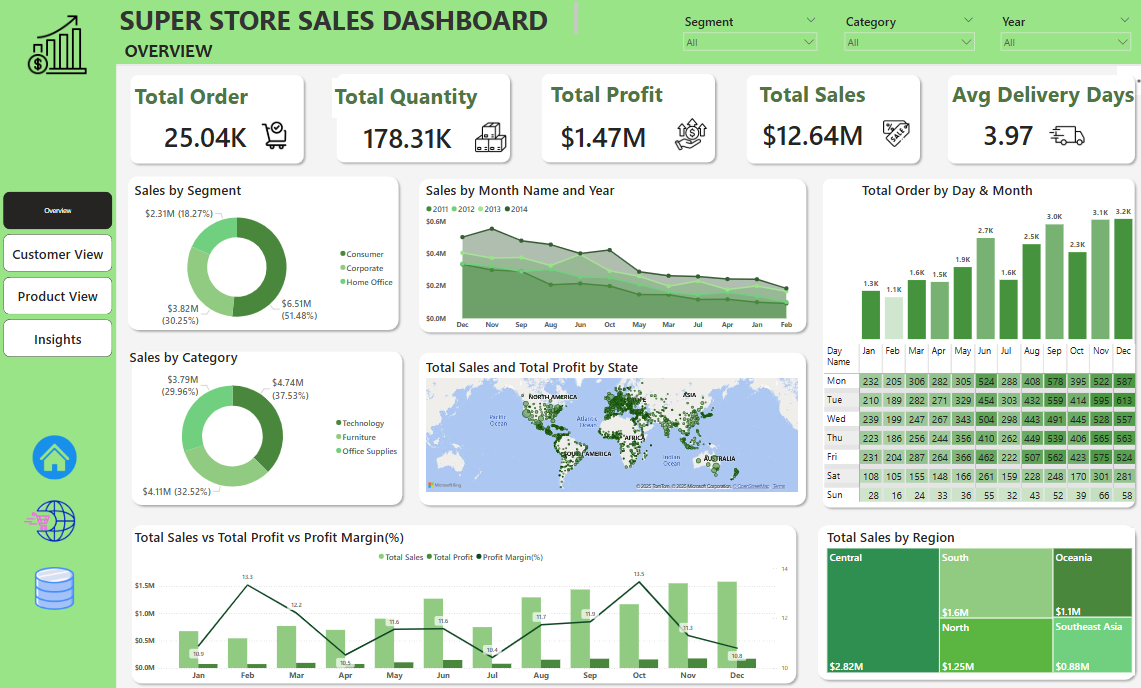

What the dashboard file says about the page in this screenshot:
{"tool":"powerbi","page":{"name":"Overview","canvas":[2300,1400],"ordinal":0},"visuals":[{"type":"shape","box":[0,0,2300,135],"z":0},{"type":"shape","box":[0,128.2,239.2,1272.3],"z":1000},{"type":"textbox","box":[240,2.5,927.5,77.5],"z":2000},{"type":"image","box":[0,30,240,127.5],"z":3000},{"type":"shape","box":[258.6,145.3,365,195],"z":4000},{"type":"shape","box":[669.3,142.8,365,195],"z":5000},{"type":"shape","box":[1080,142.8,365,195],"z":6000},{"type":"shape","box":[1490.7,143.8,365,195],"z":7000},{"type":"card","fields":{"Values":["superstore_sales_clean.Total Order"]},"box":[246.3,207.3,337.8,135.6],"z":8000},{"type":"textbox","box":[270.9,160.4,257.5,80],"z":9000},{"type":"image","box":[462.5,242.5,182.5,65],"z":10000},{"type":"card","fields":{"Values":["superstore_sales_clean.Total Quantity"]},"box":[681.1,212.5,281.1,128.2],"z":11000},{"type":"textbox","box":[670.7,160.7,317.5,80],"z":12000},{"type":"image","box":[905,242.5,165,72.5],"z":13000},{"type":"card","fields":{"Values":["superstore_sales_clean.Total Profit"]},"box":[1062.5,220.3,300,112.5],"z":14000},{"type":"textbox","box":[1102.5,157.8,260,77.5],"z":15000},{"type":"image","box":[1330,235,115,75],"z":16000},{"type":"card","fields":{"Values":["superstore_sales_clean.Total Sales"]},"box":[1492.5,217.8,277.5,110],"z":17000},{"type":"textbox","box":[1520,157.8,257.5,80],"z":18000},{"type":"image","box":[1742.5,240,112.5,62.5],"z":19000},{"type":"shape","box":[253.7,348.6,559.7,325.5],"z":20000},{"type":"donutChart","title":"Sales by Segment","fields":{"Y":["superstore_sales_clean.Total Sales"],"Category":["superstore_sales_clean.segment"]},"box":[271.1,366.2,535,311.5],"z":21000},{"type":"shape","box":[835,352.5,792.5,325],"z":22000},{"type":"areaChart","title":"Sales by Month Name and Year","fields":{"Category":["Date Table.Month Name"],"Y":["superstore_sales_clean.Total Sales"],"Series":["Date Table.Year"]},"box":[852.5,365,755,307.5],"z":23000},{"type":"shape","box":[1632.5,1045,652.5,327.5],"z":24000},{"type":"shape","box":[260,1045,1347.5,335],"z":25000},{"type":"lineClusteredColumnComboChart","title":"Total Sales vs Total Profit vs Profit Margin(%)","fields":{"Category":["Date Table.Month Name"],"Y":["superstore_sales_clean.Total Sales","superstore_sales_clean.Total Profit"],"Y2":["superstore_sales_clean.Profit Margin(%)"]},"box":[271.1,1060.5,1319.6,316.2],"z":26000},{"type":"treemap","title":"Total Sales by Region","fields":{"Values":["superstore_sales_clean.Total Sales"],"Group":["superstore_sales_clean.region"]},"box":[1654.9,1060.5,620.6,294.8],"z":27000},{"type":"slicer","fields":{"Values":["Date Table.Year"]},"box":[1997.5,25,280,85],"z":28000},{"type":"shape","box":[1643,351.9,642,675.3],"z":29000},{"type":"columnChart","title":"Total Order by Day & Month","fields":{"Y":["superstore_sales_clean.Total_Order_format"],"Category":["Date Table.Month Name"]},"box":[1723.9,366.2,551.6,323.4],"z":30000},{"type":"pivotTable","fields":{"Columns":["Date Table.Month Name"],"Rows":["Date Table.Day Name"],"Values":["superstore_sales_clean.Total_Order_format"]},"box":[1650.1,687.2,634.9,330.5],"z":31000},{"type":"shape","box":[259.7,696.8,559.7,325.5],"z":32000},{"type":"donutChart","title":"Sales by Category","fields":{"Y":["superstore_sales_clean.Total Sales"],"Category":["superstore_sales_clean.category"]},"box":[260,700,555,317.5],"z":33000},{"type":"shape","box":[834.6,699.1,791.8,323.4],"z":34000},{"type":"map","title":"Total Sales and Total Profit by State","fields":{"Category":["superstore_sales_clean.state"],"Size":["superstore_sales_clean.Total Sales"]},"box":[853.6,720.5,753.7,273.4],"z":35000},{"type":"slicer","fields":{"Values":["superstore_sales_clean.category"]},"box":[1685,25,280,85],"z":36000},{"type":"slicer","fields":{"Values":["superstore_sales_clean.segment"]},"box":[1362.5,25,287.5,85],"z":37000},{"type":"image","box":[67.1,1132.4,95,97.5],"z":38000},{"type":"image","box":[59.6,869.9,110,97.5],"z":39000},{"type":"image","box":[47.1,989.9,115,112.5],"z":40000},{"type":"textbox","box":[249.7,78.5,299.6,57.1],"z":41000},{"type":"pageNavigator","box":[11.9,387.6,218.8,332.9],"z":42000},{"type":"shape","box":[1892.7,145,392.3,195],"z":43000},{"type":"textbox","box":[1904.6,156.9,394.7,80.8],"z":44000},{"type":"card","fields":{"Values":["superstore_sales_clean.Avg Delivery Days"]},"box":[1905,220,235,102.5],"z":45000},{"type":"image","box":[2080,235,120,80],"z":46000}]}

Visuals, with their boxes in screenshot pixels (x1, y1, x2, y2), scaled from the page's 2300x1400 canvas onto the 1141x688 screenshot:
shape: (0,0,1140,66)
shape: (0,63,119,687)
textbox: (119,1,579,39)
image: (0,15,119,77)
shape: (128,71,309,167)
shape: (332,70,513,166)
shape: (536,70,717,166)
shape: (740,71,921,166)
card - superstore_sales_clean.Total Order: (122,102,290,169)
textbox: (134,79,262,118)
image: (229,119,320,151)
card - superstore_sales_clean.Total Quantity: (338,104,477,167)
textbox: (333,79,490,118)
image: (449,119,531,155)
card - superstore_sales_clean.Total Profit: (527,108,676,164)
textbox: (547,78,676,116)
image: (660,115,717,152)
card - superstore_sales_clean.Total Sales: (740,107,878,161)
textbox: (754,78,882,117)
image: (864,118,920,149)
shape: (126,171,404,331)
"Sales by Segment" donutChart: (134,180,400,333)
shape: (414,173,807,333)
"Sales by Month Name and Year" areaChart: (423,179,797,330)
shape: (810,514,1134,674)
shape: (129,514,797,678)
"Total Sales vs Total Profit vs Profit Margin(%)" lineClusteredColumnComboChart: (134,521,789,677)
"Total Sales by Region" treemap: (821,521,1129,666)
slicer - Date Table.Year: (991,12,1130,54)
shape: (815,173,1134,505)
"Total Order by Day & Month" columnChart: (855,180,1129,339)
pivotTable - Date Table.Month Name x Date Table.Day Name: (819,338,1134,500)
shape: (129,342,406,502)
"Sales by Category" donutChart: (129,344,404,500)
shape: (414,344,807,502)
"Total Sales and Total Profit by State" map: (423,354,797,488)
slicer - superstore_sales_clean.category: (836,12,975,54)
slicer - superstore_sales_clean.segment: (676,12,819,54)
image: (33,556,80,604)
image: (30,427,84,475)
image: (23,486,80,542)
textbox: (124,39,273,67)
pageNavigator: (6,190,114,354)
shape: (939,71,1134,167)
textbox: (945,77,1140,117)
card - superstore_sales_clean.Avg Delivery Days: (945,108,1062,158)
image: (1032,115,1091,155)
